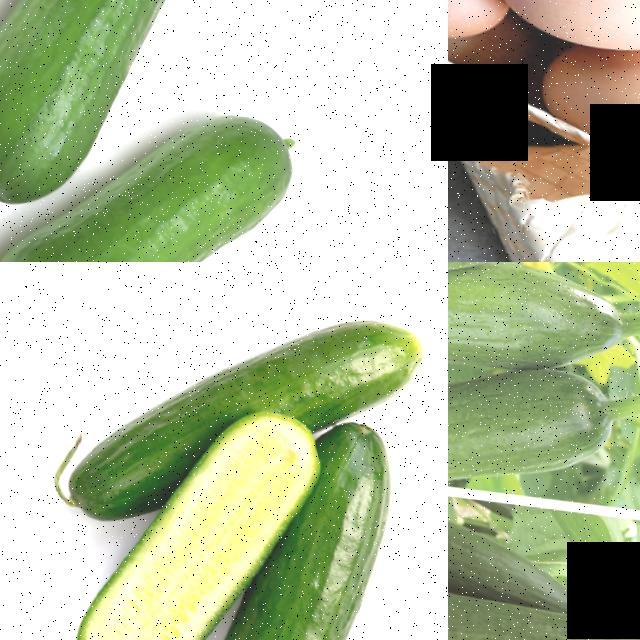cucumber: (99, 83, 316, 262), (51, 495, 259, 640), (212, 293, 429, 417), (0, 0, 246, 106), (448, 356, 611, 503), (302, 408, 402, 605), (53, 392, 180, 530), (0, 205, 279, 262), (448, 572, 640, 640), (181, 574, 369, 640)
egg_: (532, 37, 640, 154), (487, 0, 640, 58)
